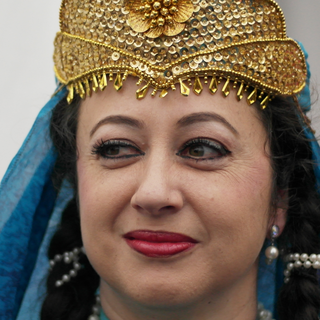eye: (175, 136, 230, 164), (94, 136, 144, 164)
